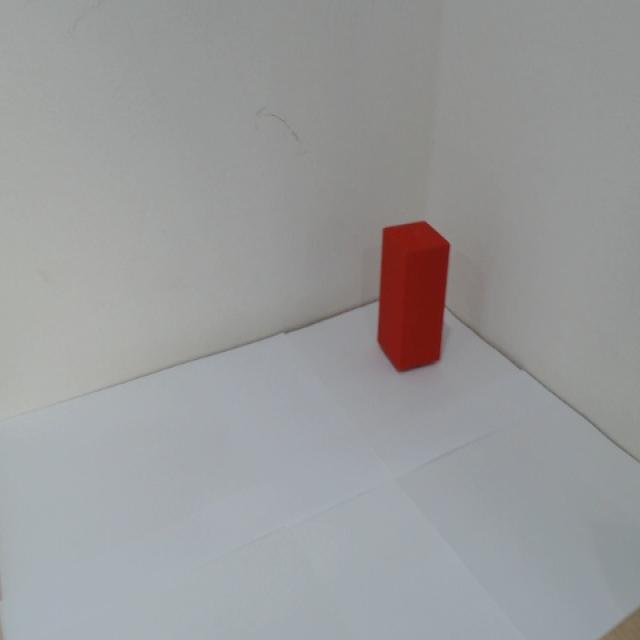cube: (372, 213, 455, 377)
